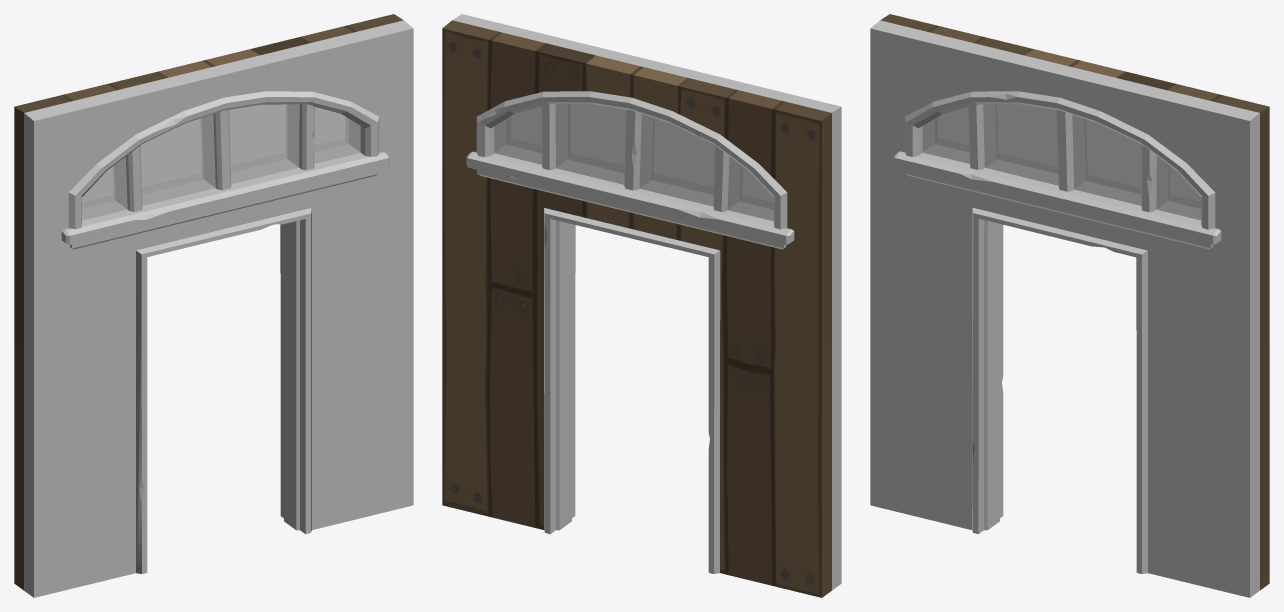
File: SM_Bld_Deco_Wall_Door_03.fbx
The picture shows the model from 3 angles, left to right: view 1: azimuth 30°, elevation 25°; view 2: azimuth 150°, elevation 25°; view 3: azimuth 330°, elevation 25°; orthographic projection.
Visible parts, largest first — view 1: SM_Bld_Deco_Wall_Door_03, SM_Bld_Deco_Wall_Door_03_Glass; view 2: SM_Bld_Deco_Wall_Door_03, SM_Bld_Deco_Wall_Door_03_Glass; view 3: SM_Bld_Deco_Wall_Door_03, SM_Bld_Deco_Wall_Door_03_Glass.
Boxes of the visible parts, box(x1,y1,x2,y2) form: SM_Bld_Deco_Wall_Door_03: box(14, 14, 413, 597); SM_Bld_Deco_Wall_Door_03_Glass: box(82, 104, 360, 220); SM_Bld_Deco_Wall_Door_03: box(442, 14, 841, 597); SM_Bld_Deco_Wall_Door_03_Glass: box(494, 104, 773, 221); SM_Bld_Deco_Wall_Door_03: box(870, 14, 1269, 597); SM_Bld_Deco_Wall_Door_03_Glass: box(922, 104, 1201, 220).
Bounding box in the file's own units: 250 × 301 × 35.41.
